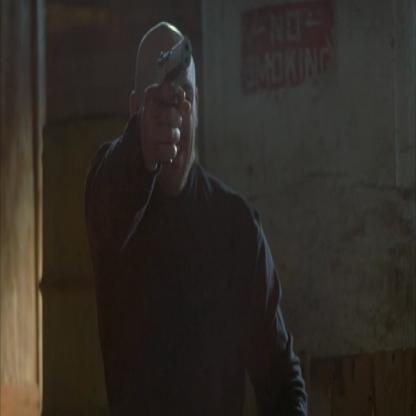Gun: (153, 31, 194, 173)
